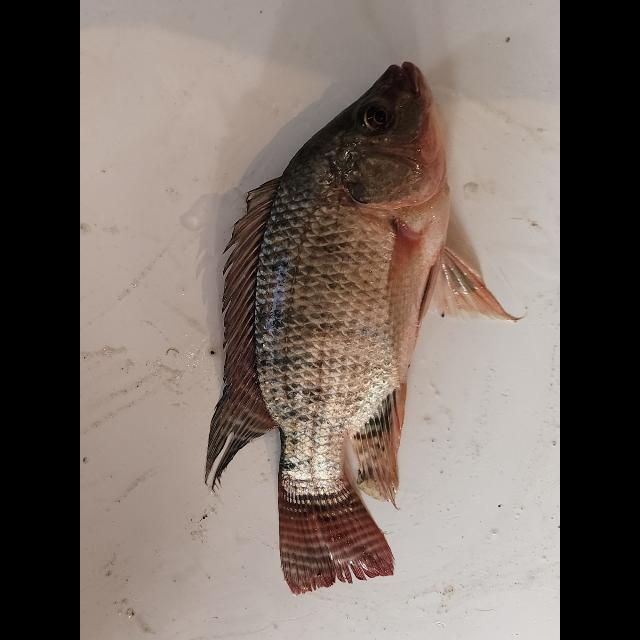Tilapia: (201, 62, 523, 590)
